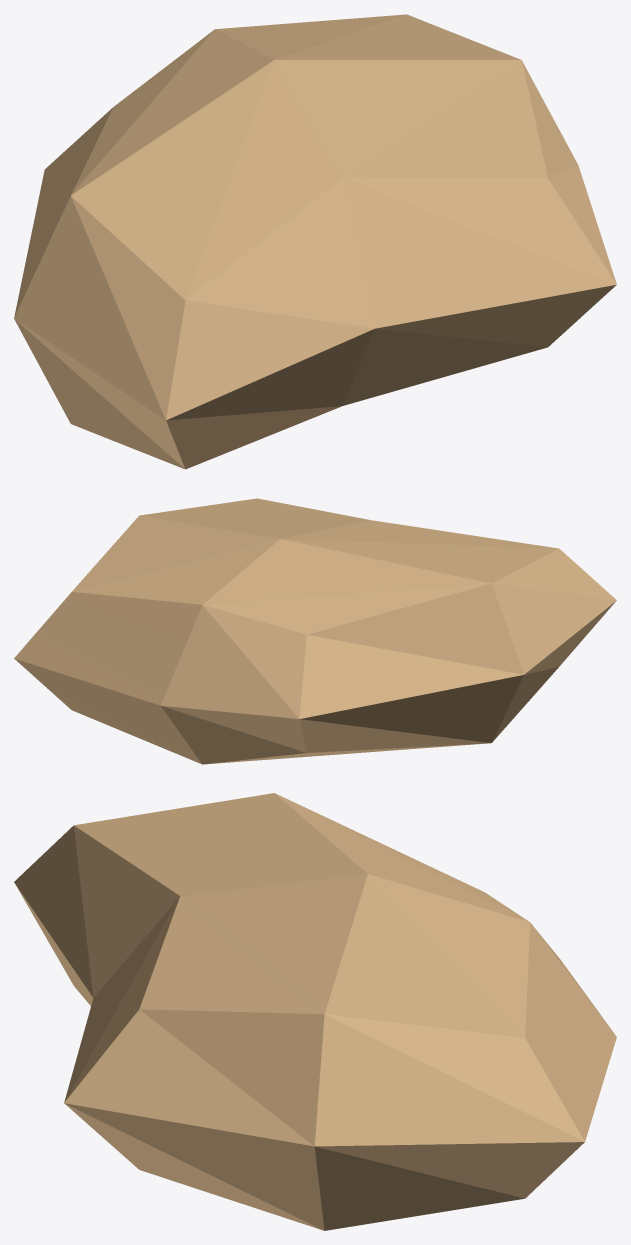
Rendered from 05 Small_stone.FBX.
The picture shows the model from 3 angles, top to bottom: view 1: azimuth 30°, elevation 25°; view 2: azimuth 150°, elevation 25°; view 3: azimuth 270°, elevation 25°; orthographic projection. The views are drawn at different scales.
Visible parts, largest first — view 1: Stone_lit_026; view 2: Stone_lit_026; view 3: Stone_lit_026.
Part boxes in pixels (x1=…): Stone_lit_026: x1=14, y1=14, x2=616, y2=469; Stone_lit_026: x1=14, y1=498, x2=616, y2=764; Stone_lit_026: x1=14, y1=793, x2=616, y2=1230.
Size of the model in its own units: 702 by 352 by 665.
